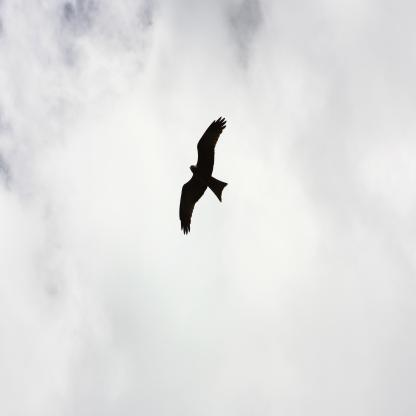bird: (178, 117, 229, 235)
